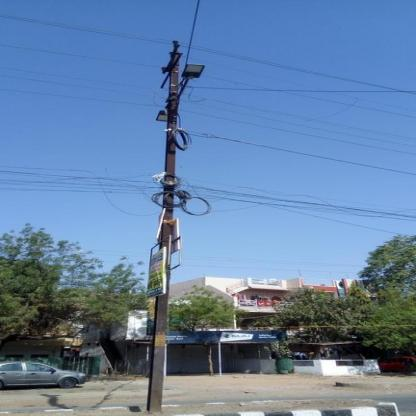Electrical Pole: (122, 38, 209, 415)
